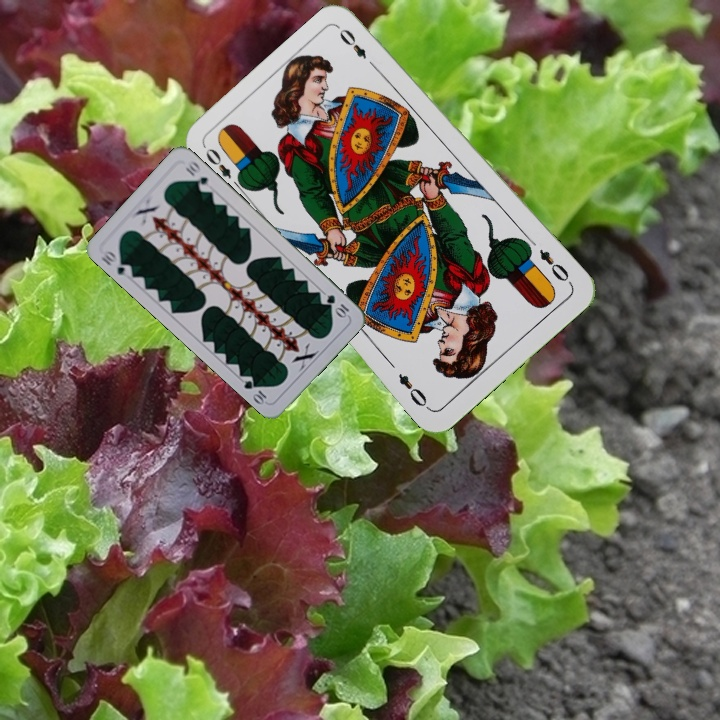EO: (201, 144, 246, 192), (535, 245, 575, 287)
G10: (97, 247, 135, 280), (322, 290, 352, 320)
